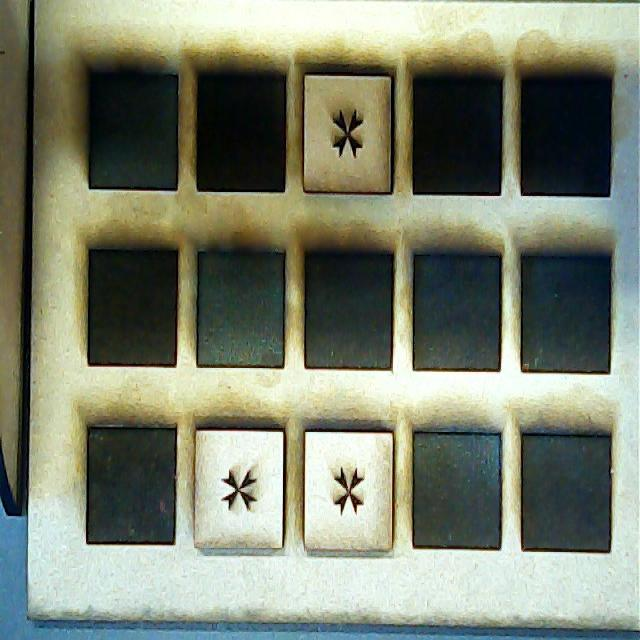maltese: (303, 68, 397, 191), (304, 435, 395, 555), (196, 427, 284, 549)
